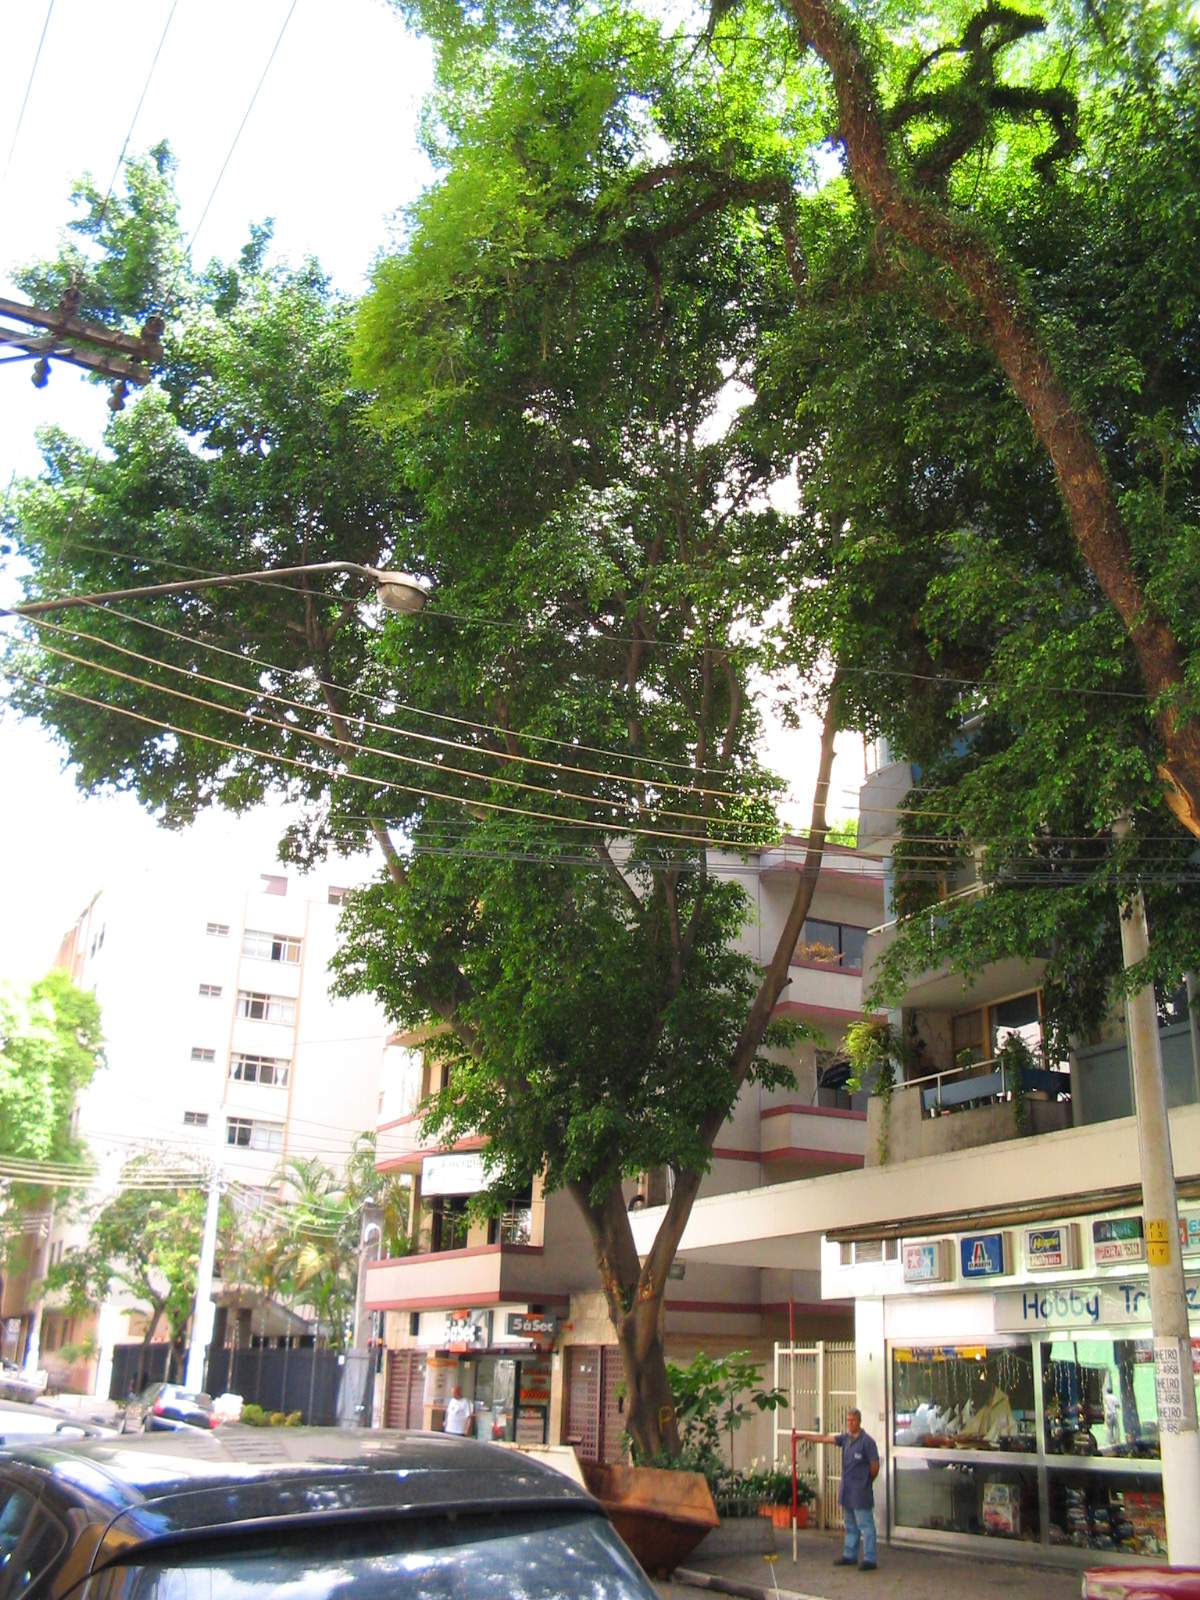crown: (13, 3, 853, 1218)
stem: (596, 1309, 706, 1556)
stick: (776, 1293, 808, 1561)
tree: (6, 5, 857, 1558)
